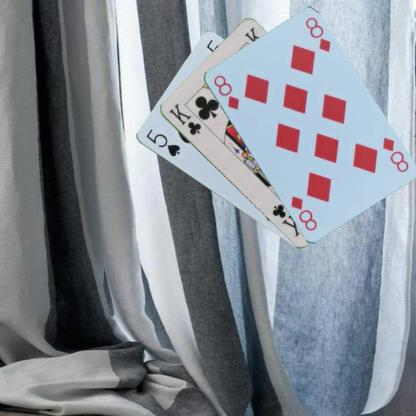5s: (143, 126, 181, 158)
8d: (210, 72, 240, 111), (380, 135, 410, 173)
Kc: (166, 100, 202, 137)
